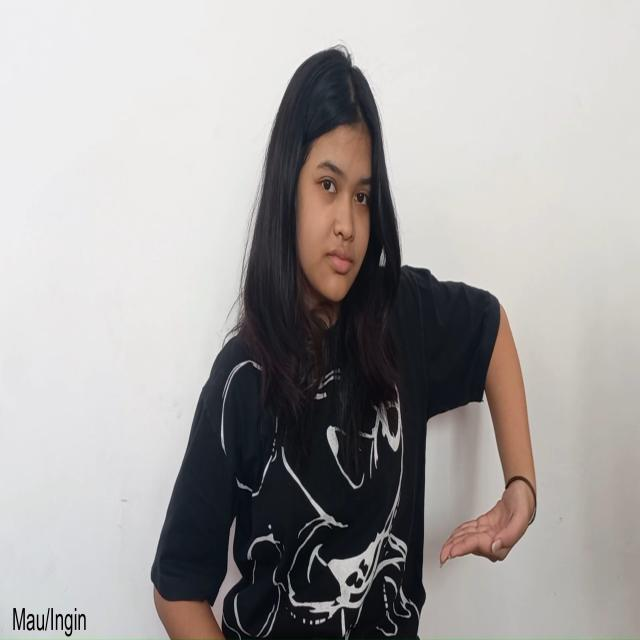Mau-Ingin -BISINDO-: (437, 473, 538, 573)
